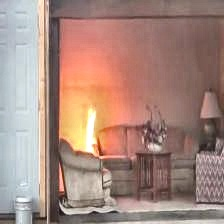fire: (74, 104, 101, 153)
